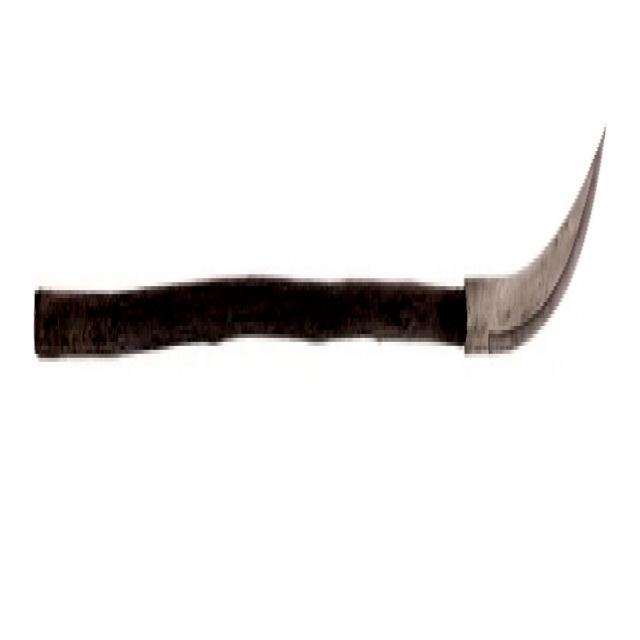spear: (24, 93, 624, 402)
